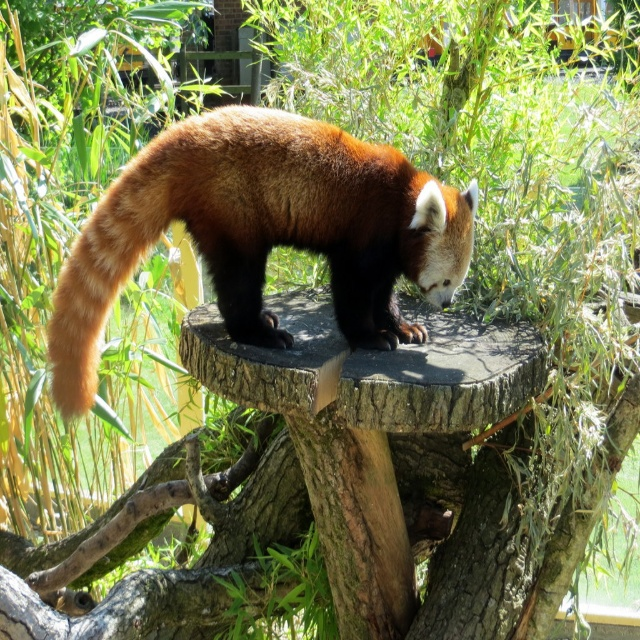Red panda: (45, 103, 479, 420)
